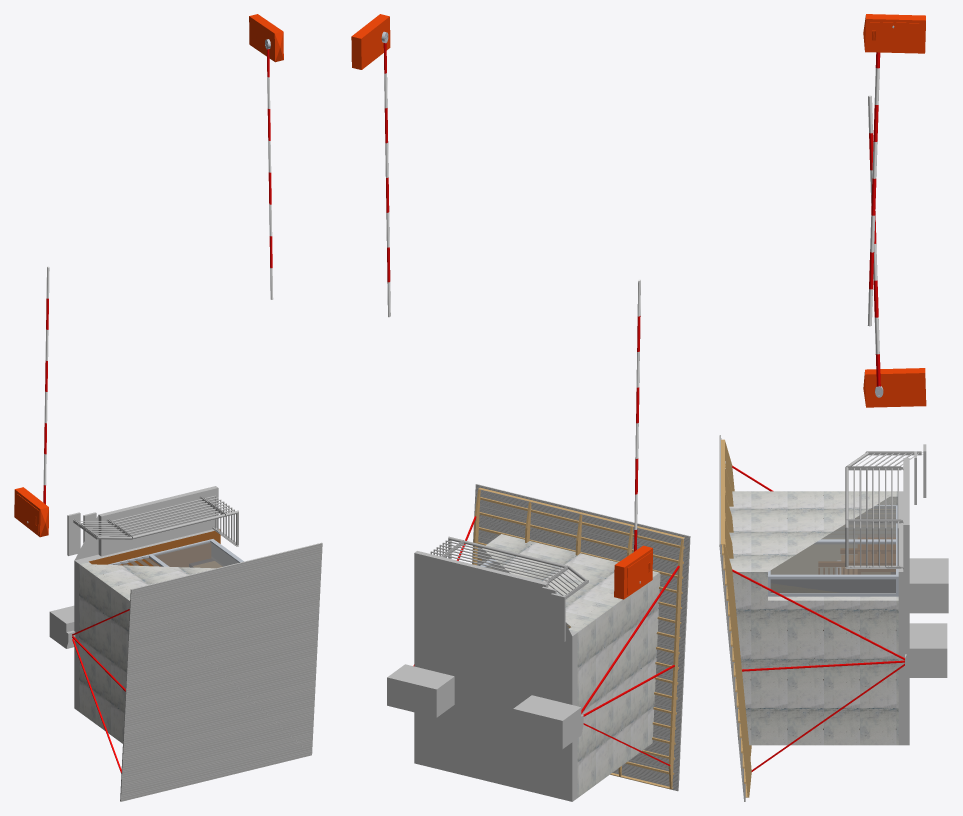
File: env_other.obj
3 renders of one model, left to right at view 1: azimuth 30°, elevation 25°; view 2: azimuth 150°, elevation 25°; view 3: azimuth 270°, elevation 25°, orthographic. The views are drawn at different scales.
Parts seen in each view (by area): view 1: _22, _21, Tile_Sguares_Grays, M_0131_Silver, Concrete_Aggregate_Small, M_0024_OrangeRed, Wood_Bamboo_Medium, Translucent_Glass_Gray, Metal_Aluminum_Anodized, FrontColor, M_0020_Red, Color_A01; view 2: Concrete_Aggregate_Small, _21, _22, Wood_Bamboo_Light, M_0024_OrangeRed, M_0131_Silver, FrontColor, Color_A01, M_0020_Red; view 3: _21, Concrete_Aggregate_Small, Translucent_Glass_Gray, M_0024_OrangeRed, Wood_Bamboo_Light, Metal_Aluminum_Anodized, M_0131_Silver, Color_D05, Color_A01, FrontColor, M_0020_Red, _22 (+2 smaller).
Part boxes in pixels (bbox=[...]): _22: bbox=[120, 542, 322, 801]; _21: bbox=[79, 561, 215, 743]; Tile_Sguares_Grays: bbox=[68, 488, 218, 556]; M_0131_Silver: bbox=[72, 495, 238, 546]; Concrete_Aggregate_Small: bbox=[49, 486, 220, 711]; M_0024_OrangeRed: bbox=[14, 14, 283, 537]; Wood_Bamboo_Medium: bbox=[89, 529, 220, 566]; Translucent_Glass_Gray: bbox=[113, 542, 238, 568]; Metal_Aluminum_Anodized: bbox=[107, 539, 243, 566]; FrontColor: bbox=[43, 77, 273, 566]; M_0020_Red: bbox=[43, 49, 272, 504]; Color_A01: bbox=[72, 609, 129, 773]; Concrete_Aggregate_Small: bbox=[387, 551, 583, 801]; _21: bbox=[482, 534, 660, 797]; _22: bbox=[472, 484, 690, 791]; Wood_Bamboo_Light: bbox=[472, 487, 684, 789]; M_0024_OrangeRed: bbox=[351, 14, 652, 599]; M_0131_Silver: bbox=[430, 536, 588, 599]; FrontColor: bbox=[384, 73, 684, 539]; Color_A01: bbox=[413, 516, 679, 765]; M_0020_Red: bbox=[383, 43, 640, 551]; _21: bbox=[726, 491, 898, 745]; Concrete_Aggregate_Small: bbox=[898, 444, 948, 745]; Translucent_Glass_Gray: bbox=[770, 506, 895, 593]; M_0024_OrangeRed: bbox=[863, 14, 926, 407]; Wood_Bamboo_Light: bbox=[721, 439, 890, 797]; Metal_Aluminum_Anodized: bbox=[768, 505, 898, 596]; M_0131_Silver: bbox=[845, 451, 922, 568]; Color_D05: bbox=[771, 509, 895, 592]; Color_A01: bbox=[732, 465, 904, 771]; FrontColor: bbox=[771, 68, 895, 593]; M_0020_Red: bbox=[869, 52, 880, 386]; _22: bbox=[719, 435, 745, 801].
Size of the model in its own units: 3.04 by 8.06 by 2.11.
